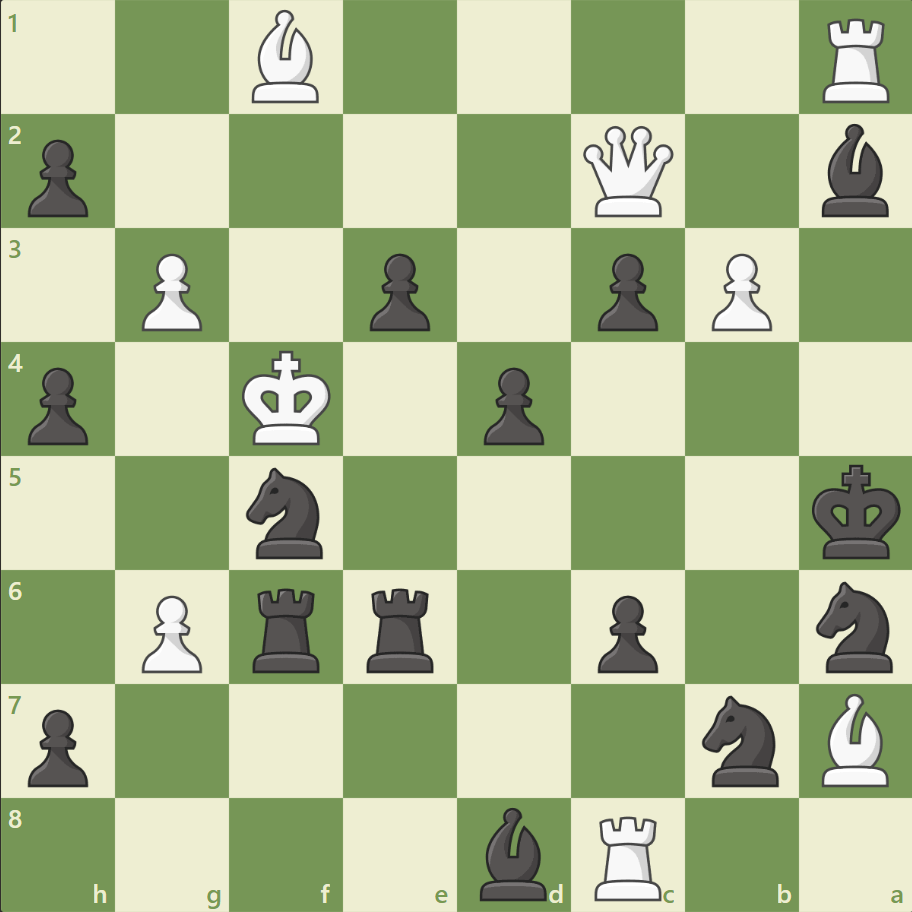B: (812, 687, 896, 790), (244, 6, 328, 109)
K: (238, 344, 338, 452)
P: (133, 586, 208, 677), (701, 246, 776, 337), (133, 246, 208, 337)
Q: (578, 122, 677, 222)
R: (587, 806, 670, 904), (814, 12, 897, 109)
b: (471, 801, 555, 904), (812, 120, 896, 222)
k: (806, 458, 906, 566)
n: (692, 688, 789, 791), (238, 461, 335, 564), (806, 575, 903, 677)
p: (20, 700, 95, 791), (474, 359, 549, 450), (20, 359, 95, 450), (20, 132, 95, 223), (588, 586, 662, 677), (588, 246, 662, 337), (361, 246, 435, 337)
r: (246, 579, 329, 676), (360, 579, 442, 676)
